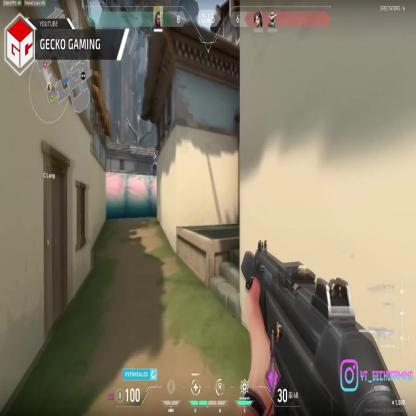enemy: (152, 152, 158, 175)
enemy_head: (154, 152, 156, 156)
